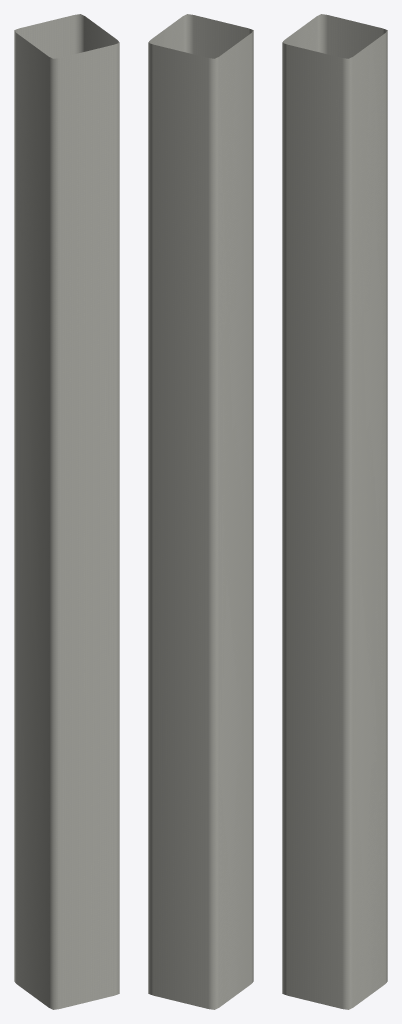
File: jinzhu.obj
The picture shows the model from 3 angles, left to right: view 1: azimuth 30°, elevation 25°; view 2: azimuth 150°, elevation 25°; view 3: azimuth 330°, elevation 25°; orthographic projection.
Parts seen in each view (by area): view 1: Mesh1 Group2 Group1 Model; view 2: Mesh1 Group2 Group1 Model; view 3: Mesh1 Group2 Group1 Model.
Boxes of the visible parts, bbox=[...] form: Mesh1 Group2 Group1 Model: bbox=[14, 14, 119, 1009]; Mesh1 Group2 Group1 Model: bbox=[148, 14, 253, 1009]; Mesh1 Group2 Group1 Model: bbox=[282, 14, 387, 1009].
Size of the model in its own units: 1 by 13.24 by 1.02.
1 material, 1 textured.
